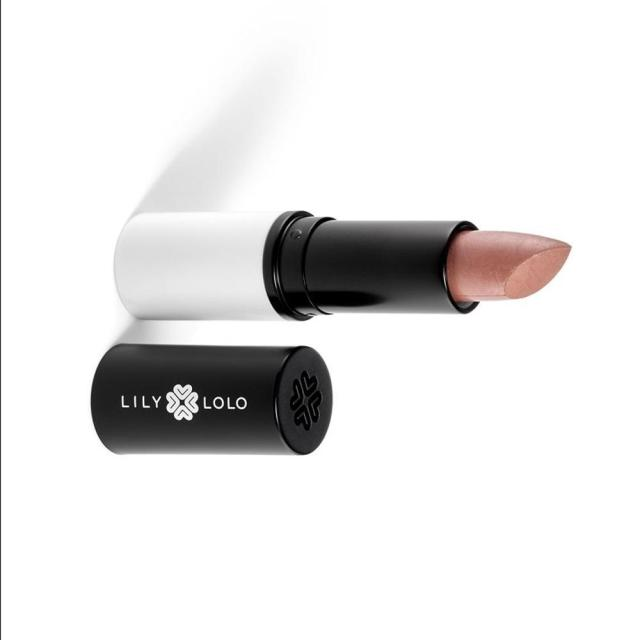lipstick: (107, 193, 584, 335)
